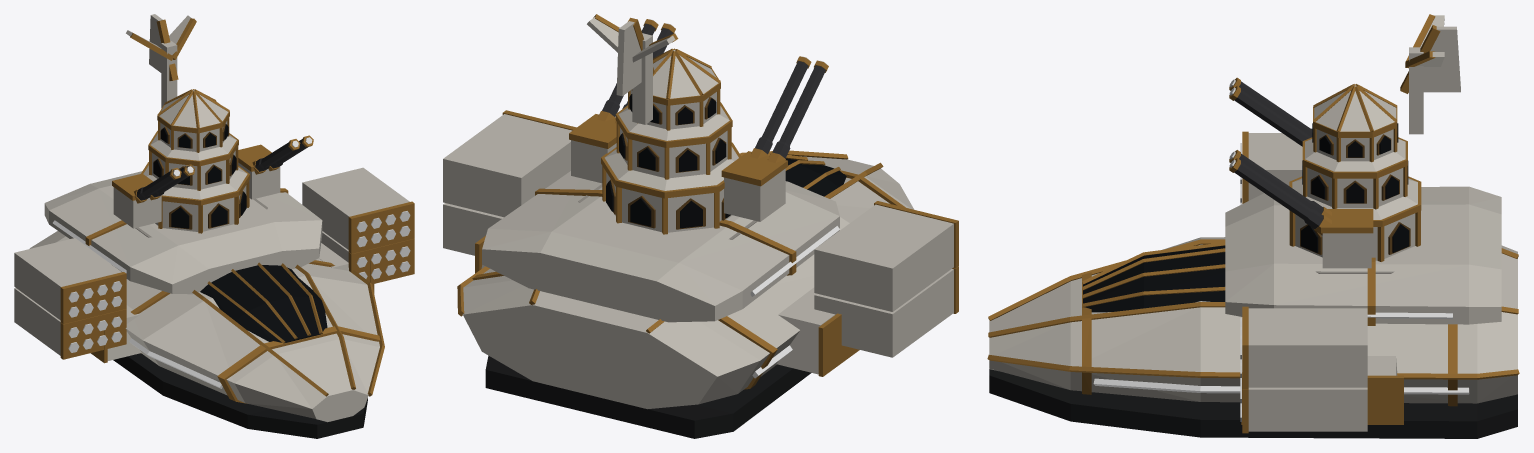
3 views of the same model, side by side, from view 1: azimuth 30°, elevation 25°; view 2: azimuth 150°, elevation 25°; view 3: azimuth 270°, elevation 25° (orthographic). The views are drawn at different scales.
Parts seen in each view (by area): view 1: body, top; view 2: body, top; view 3: body, top.
Boxes of the visible parts, left/top/right/bottom form: body: left=14, top=167, right=414, bottom=438; top: left=112, top=14, right=313, bottom=233; body: left=443, top=110, right=958, bottom=438; top: left=569, top=14, right=828, bottom=234; body: left=987, top=131, right=1519, bottom=438; top: left=1229, top=14, right=1460, bottom=268.
Size of the model in its own units: 6.22 by 4.91 by 6.55.
